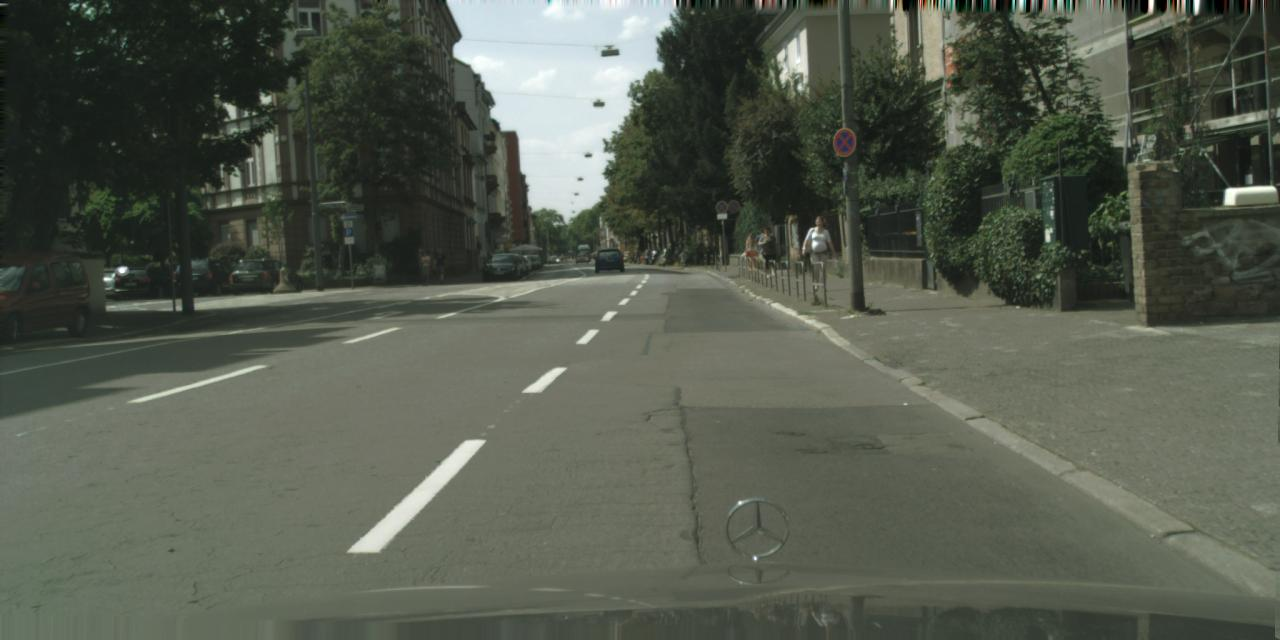ped: (805, 216, 834, 288), (759, 227, 779, 276), (757, 226, 774, 268), (744, 231, 760, 271), (432, 248, 447, 282), (419, 251, 431, 283), (560, 254, 564, 262)
